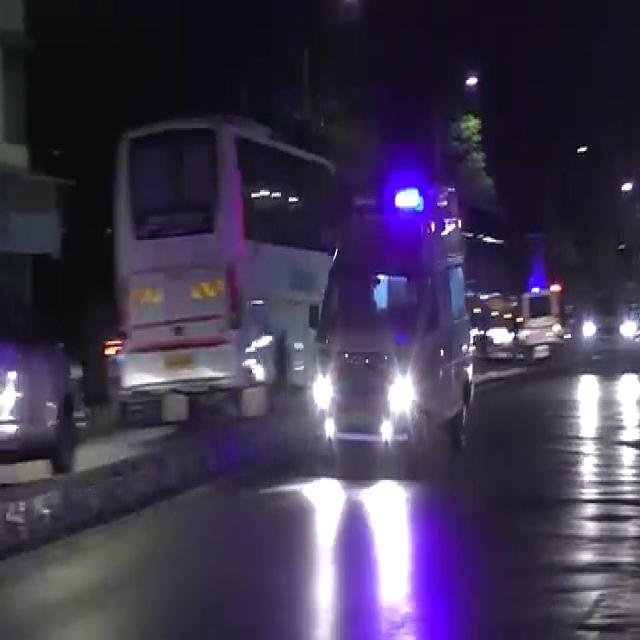ambulance: (303, 184, 473, 478)
